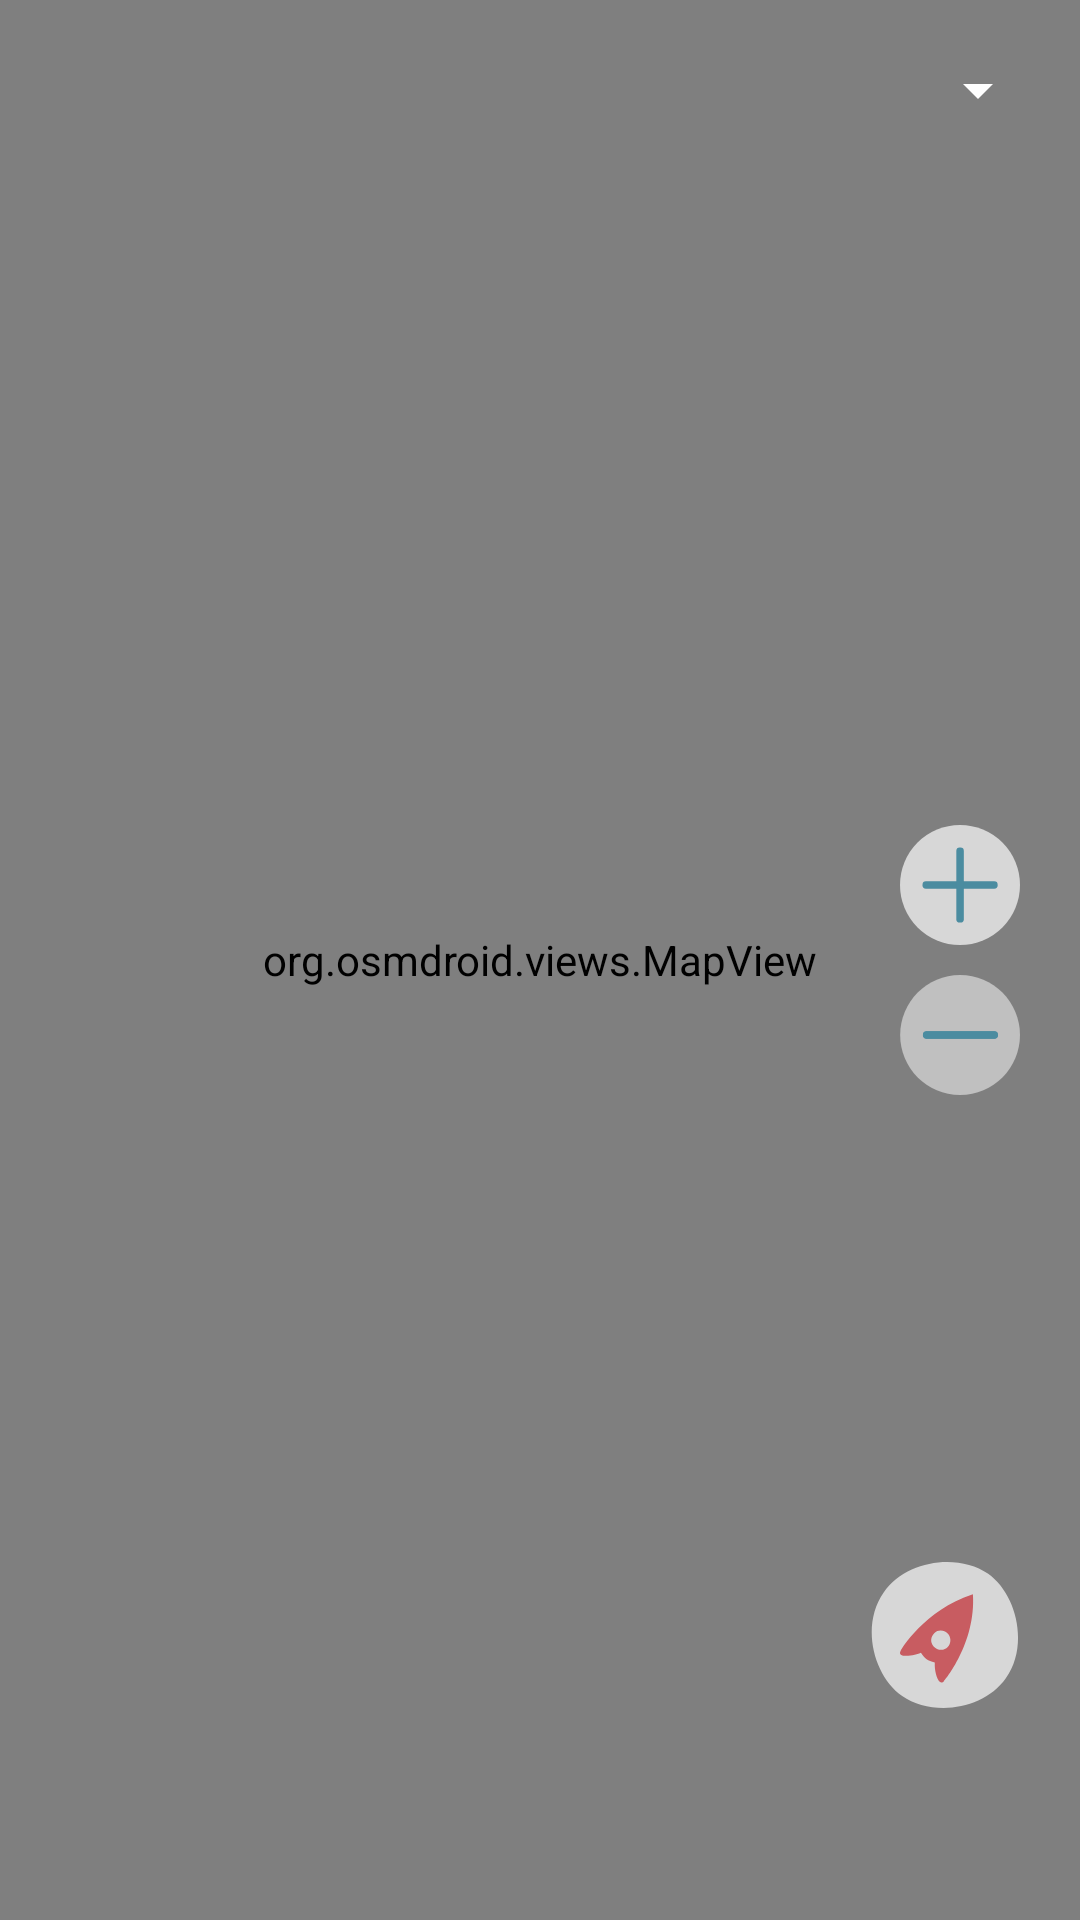

Screen size 1080 × 1920. Icon name, then its center in pixels as [x,y]:
map findme: [945,1635]
map zoom minus: [960,1035]
map zoom plus: [960,885]
